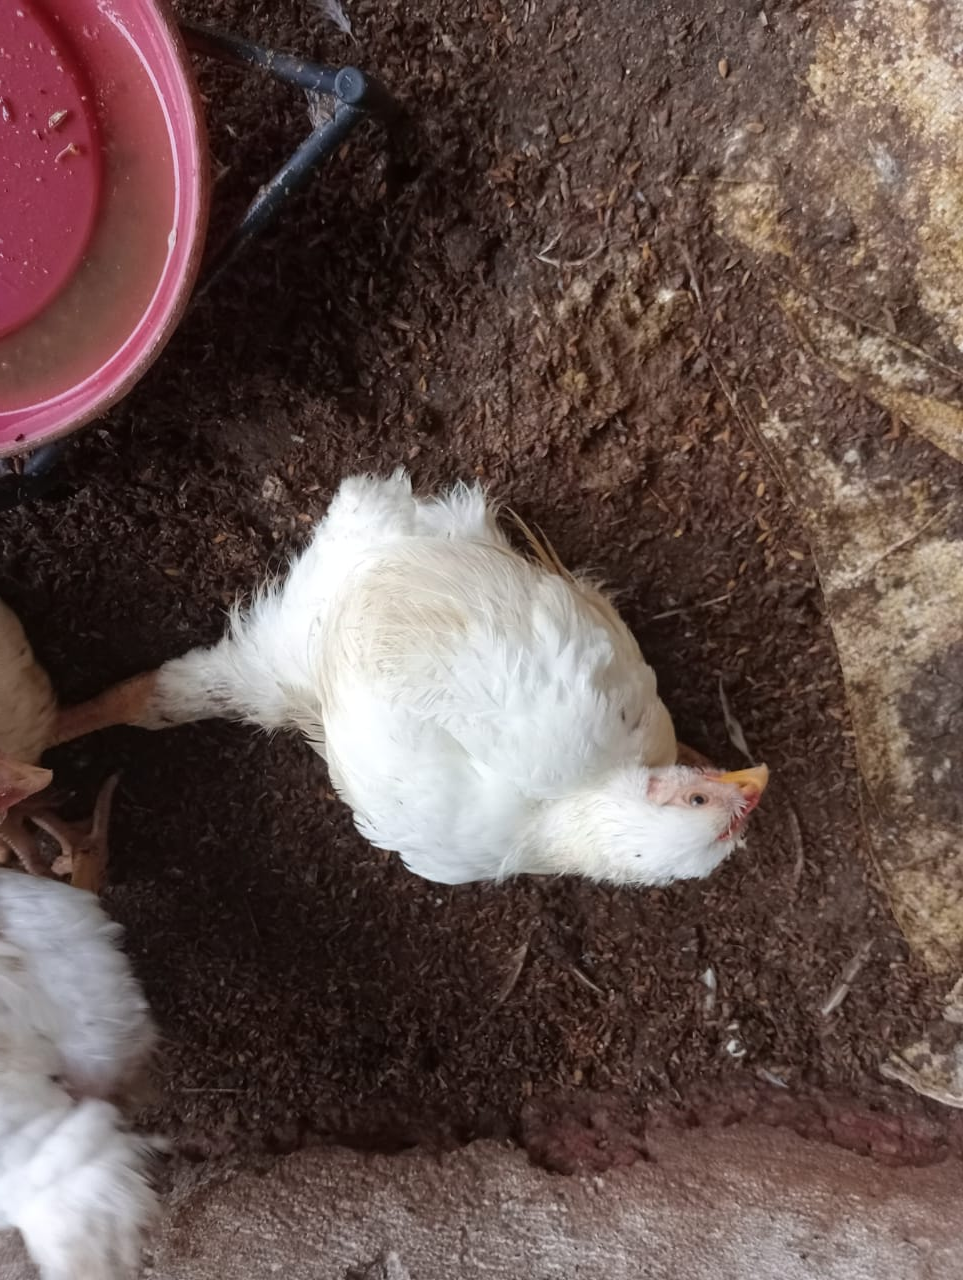Unhealthy: (45, 444, 796, 914)
